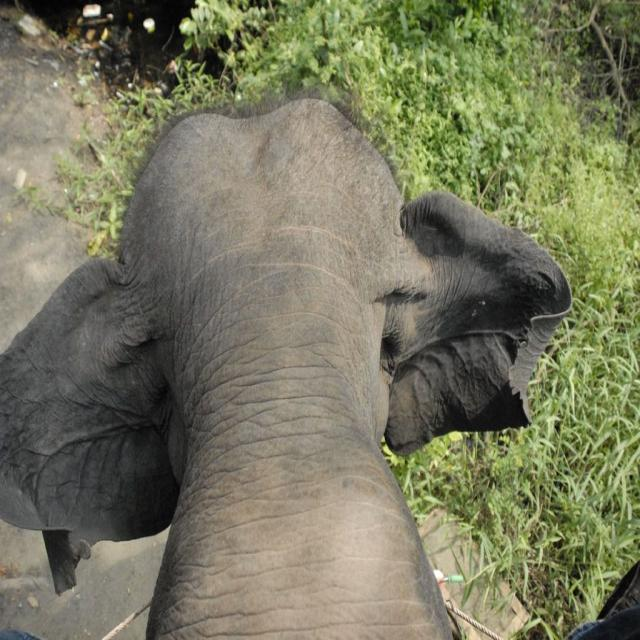elephant: (0, 79, 572, 639)
